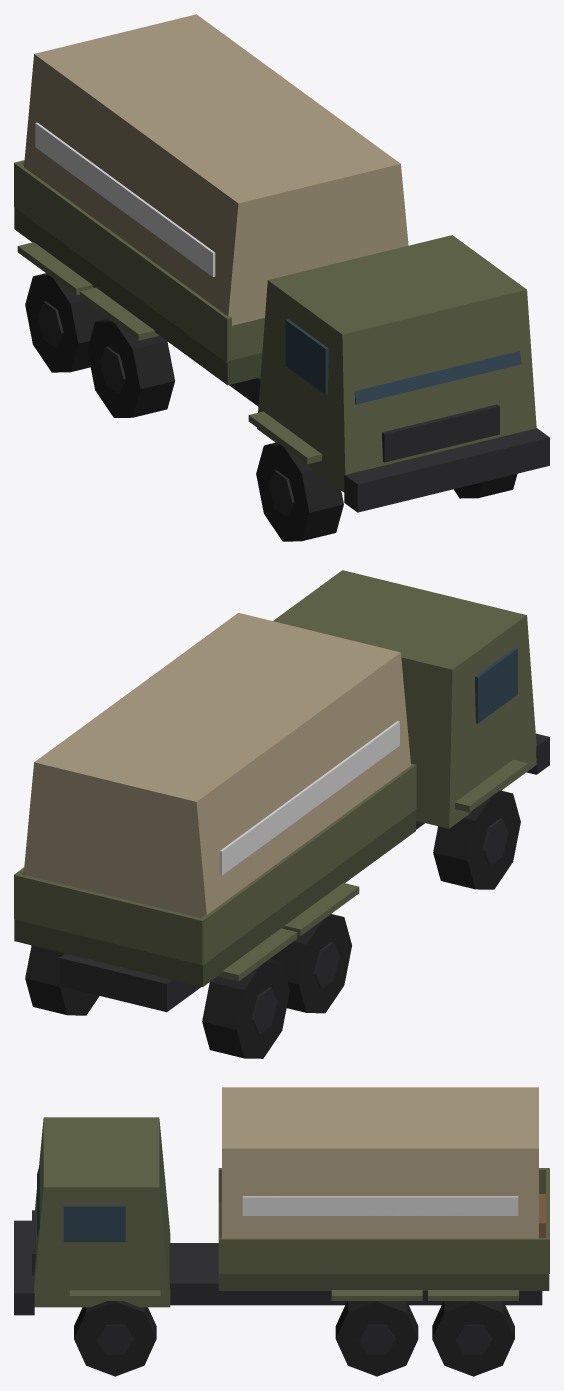
The model's file is supply_truck.glb.
The picture shows the model from 3 angles, top to bottom: view 1: azimuth 30°, elevation 25°; view 2: azimuth 150°, elevation 25°; view 3: azimuth 270°, elevation 25°; orthographic projection. The views are drawn at different scales.
Parts seen in each view (by area): view 1: Body; view 2: Body; view 3: Body.
Boxes of the visible parts, x1,y1,x2,y2 form: Body: (14, 14, 549, 541); Body: (14, 570, 549, 1058); Body: (14, 1087, 549, 1376).
Size of the model in its own units: 2.87 by 3.5 by 7.78.
